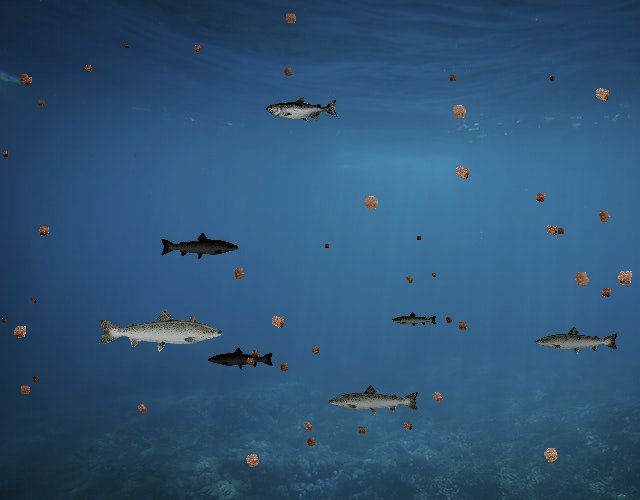Fish: (96, 307, 225, 353), (328, 383, 422, 417), (534, 325, 620, 356), (160, 231, 241, 260), (267, 96, 340, 122), (208, 346, 276, 370), (392, 312, 439, 329)
Pellet: (610, 262, 640, 293), (238, 447, 266, 475), (264, 309, 291, 336), (14, 68, 35, 89), (80, 60, 96, 76), (546, 72, 559, 85), (27, 295, 39, 307)
